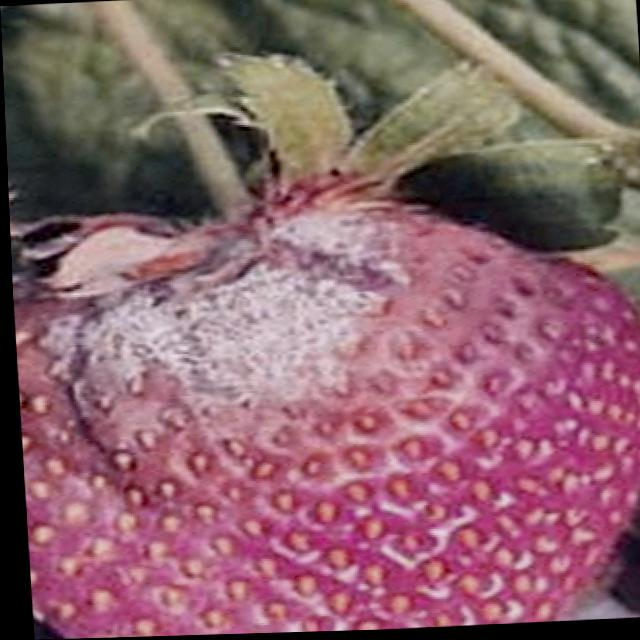Gray Mold: (8, 171, 640, 521)
